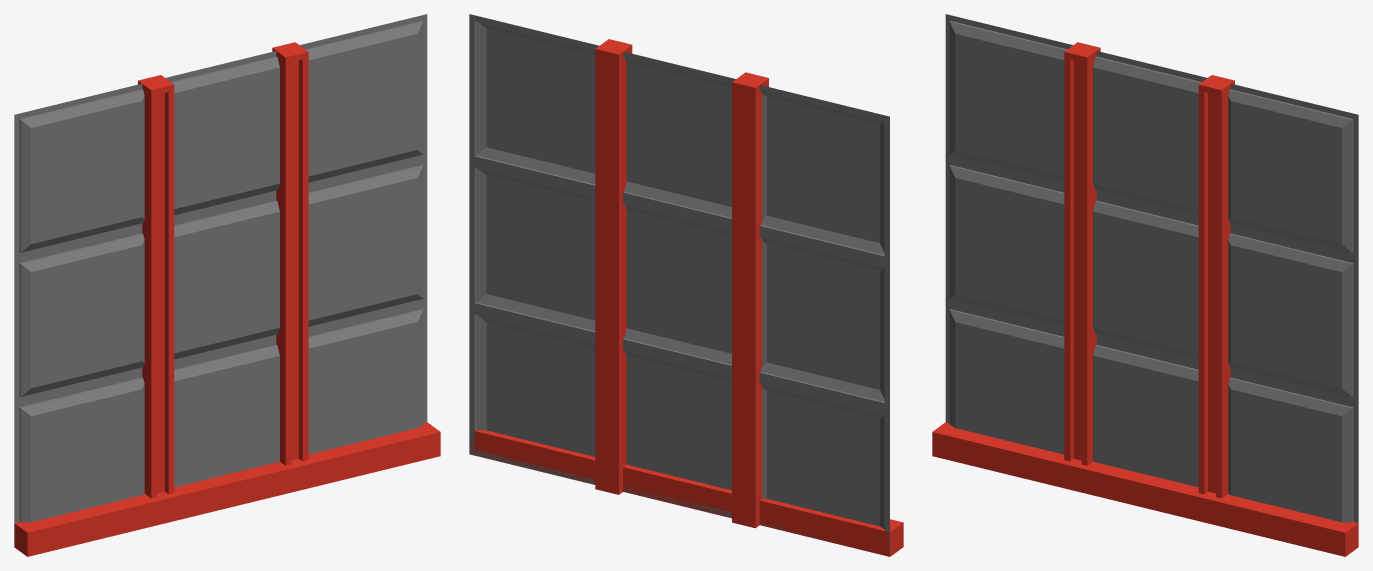
File: wall.fbx
The picture shows the model from 3 angles, left to right: view 1: azimuth 30°, elevation 25°; view 2: azimuth 150°, elevation 25°; view 3: azimuth 330°, elevation 25°; orthographic projection.
Parts seen in each view (by area): view 1: Plane, Cube.001, Cube; view 2: Plane, Cube.001, Cube; view 3: Plane, Cube.001, Cube.
Part boxes in pixels (bbox=[...]): Plane: bbox=[14, 14, 427, 522]; Cube.001: bbox=[138, 42, 308, 498]; Cube: bbox=[14, 422, 440, 556]; Plane: bbox=[469, 14, 889, 556]; Cube.001: bbox=[595, 39, 768, 528]; Cube: bbox=[469, 430, 903, 556]; Plane: bbox=[945, 14, 1358, 522]; Cube.001: bbox=[1064, 42, 1234, 498]; Cube: bbox=[932, 422, 1358, 556].
Bounding box in the file's own units: 400 × 400 × 29.33.
